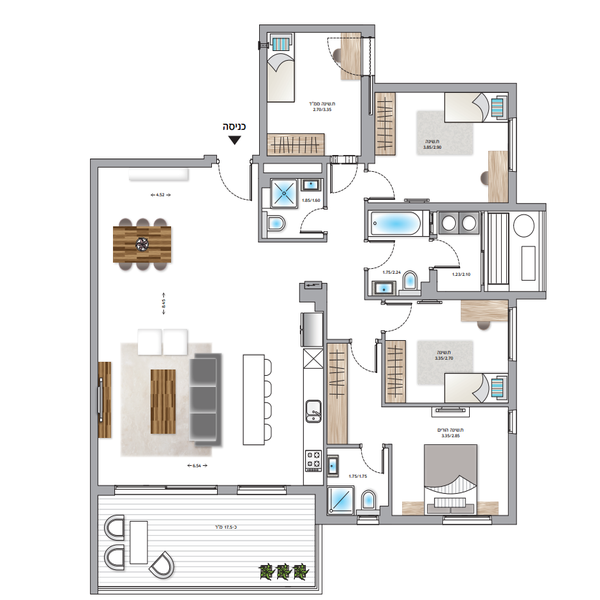door: (327, 35, 378, 76), (218, 159, 261, 206), (362, 166, 399, 202), (383, 298, 419, 335), (431, 238, 463, 274), (331, 154, 357, 194), (352, 338, 380, 375), (365, 238, 395, 268), (361, 447, 387, 479), (297, 209, 325, 238)
room: (91, 156, 327, 493), (358, 76, 518, 214), (364, 202, 552, 300), (383, 400, 521, 526), (259, 20, 377, 167), (386, 296, 518, 412)
wall: (90, 160, 98, 590), (367, 200, 547, 209), (374, 83, 516, 94), (259, 23, 267, 163), (90, 158, 214, 167), (362, 79, 374, 164), (381, 403, 517, 409), (259, 25, 374, 32), (418, 292, 547, 298), (510, 433, 519, 517), (377, 516, 444, 525), (323, 313, 327, 451), (258, 157, 328, 164), (509, 362, 518, 409), (388, 443, 393, 522), (507, 174, 517, 212), (288, 485, 324, 495), (381, 333, 385, 404), (334, 515, 357, 527), (317, 494, 327, 519), (220, 485, 238, 493), (365, 268, 369, 300), (327, 445, 365, 448)
window: (112, 486, 221, 495), (507, 310, 517, 359), (450, 515, 490, 525)
